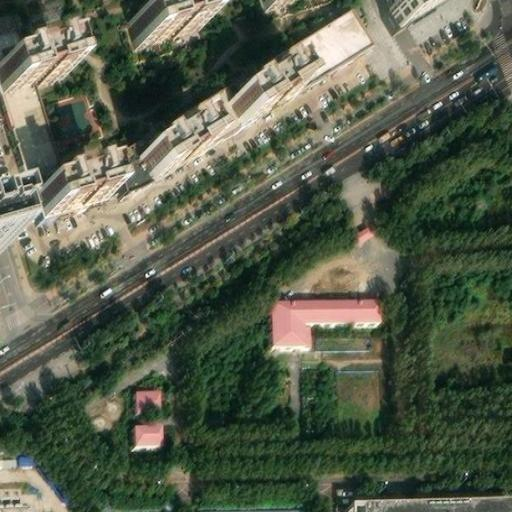building: (282, 2, 376, 83), (271, 289, 380, 342), (137, 109, 220, 177), (9, 76, 60, 183), (229, 57, 304, 121), (348, 488, 512, 512), (0, 37, 72, 84), (38, 162, 110, 209), (311, 318, 380, 341), (204, 95, 242, 132), (121, 152, 152, 185), (201, 502, 303, 512), (351, 219, 380, 247), (0, 25, 24, 57), (133, 380, 160, 408), (134, 417, 161, 441), (0, 453, 34, 471), (125, 506, 166, 512)
